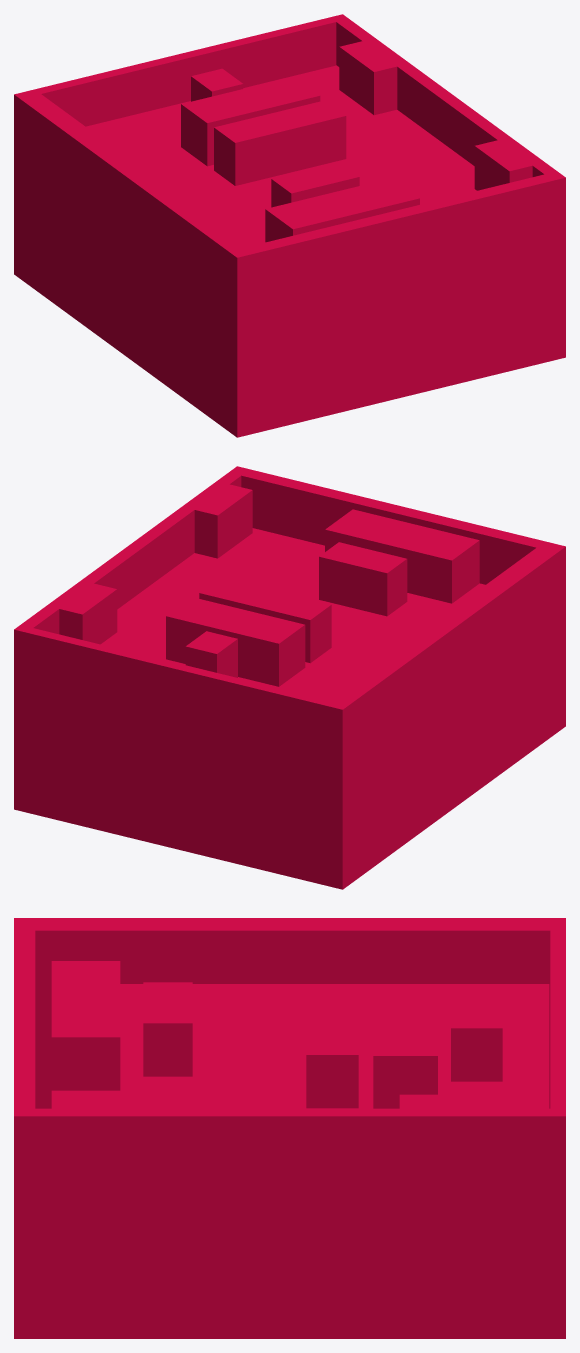
The model's file is Blockable.fbx.
3 renders of one model, top to bottom at view 1: azimuth 30°, elevation 25°; view 2: azimuth 150°, elevation 25°; view 3: azimuth 270°, elevation 25°, orthographic. The views are drawn at different scales.
Parts seen in each view (by area): view 1: polySurface463, polySurface457, polySurface461, polySurface464, polySurface460, polySurface458, polySurface456, polySurface459, polySurface462; view 2: polySurface463, polySurface457, polySurface460, polySurface464, polySurface456, polySurface461, polySurface459, polySurface458, polySurface462; view 3: polySurface463, polySurface457, polySurface460, polySurface464, polySurface461, polySurface456, polySurface462, polySurface458, polySurface459.
Boxes of the visible parts, x1,y1,x2,y2 form: polySurface463: (14, 14, 565, 437); polySurface457: (86, 65, 476, 246); polySurface461: (214, 100, 346, 185); polySurface464: (181, 76, 320, 166); polySurface460: (265, 178, 419, 242); polySurface458: (339, 41, 397, 115); polySurface456: (271, 162, 359, 207); polySurface459: (474, 140, 532, 190); polySurface462: (191, 68, 243, 101); polySurface463: (14, 466, 565, 889); polySurface457: (101, 528, 485, 699); polySurface460: (325, 509, 479, 603); polySurface464: (166, 597, 305, 686); polySurface456: (319, 542, 407, 616); polySurface461: (199, 577, 331, 663); polySurface459: (194, 484, 252, 558); polySurface458: (59, 583, 117, 644); polySurface462: (185, 631, 237, 677); polySurface463: (14, 918, 565, 1338); polySurface457: (51, 984, 549, 1108); polySurface460: (51, 961, 120, 1090); polySurface464: (373, 987, 437, 1108); polySurface461: (306, 988, 358, 1108); polySurface456: (143, 982, 192, 1076); polySurface462: (451, 1009, 502, 1081); polySurface458: (399, 1094, 485, 1108); polySurface459: (64, 1094, 150, 1108).
Size of the model in its own units: 727 by 380 by 855.
